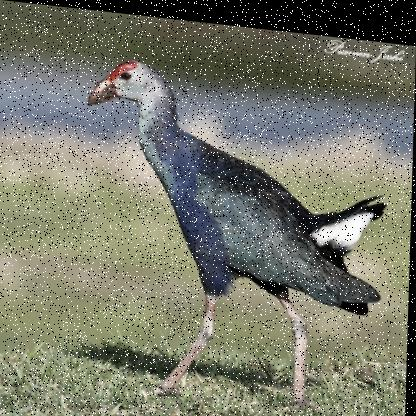Burung: (80, 54, 390, 409)
